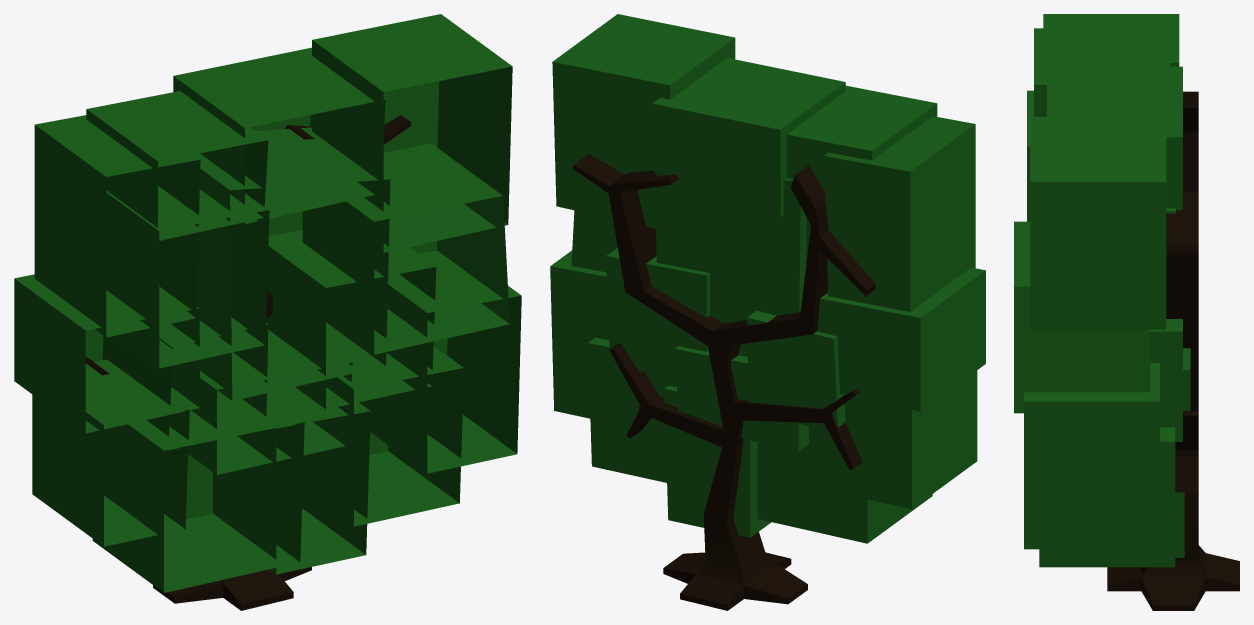
File: Bush001.FBX
3 views of the same model, side by side, from view 1: azimuth 30°, elevation 25°; view 2: azimuth 150°, elevation 25°; view 3: azimuth 270°, elevation 25° (orthographic). The views are drawn at different scales.
Visible parts, largest first — view 1: Bush001; view 2: Bush001; view 3: Bush001.
Boxes of the visible parts, x1,y1,x2,y2 form: Bush001: [14, 14, 521, 610]; Bush001: [550, 14, 985, 610]; Bush001: [1014, 14, 1239, 610].
Bounding box in the file's own units: 83.4 × 99.05 × 40.73.
